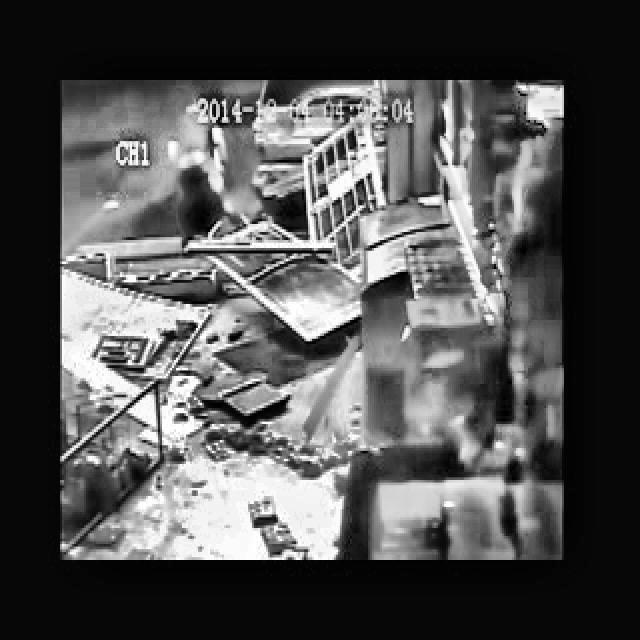burglary: (163, 80, 290, 258)
